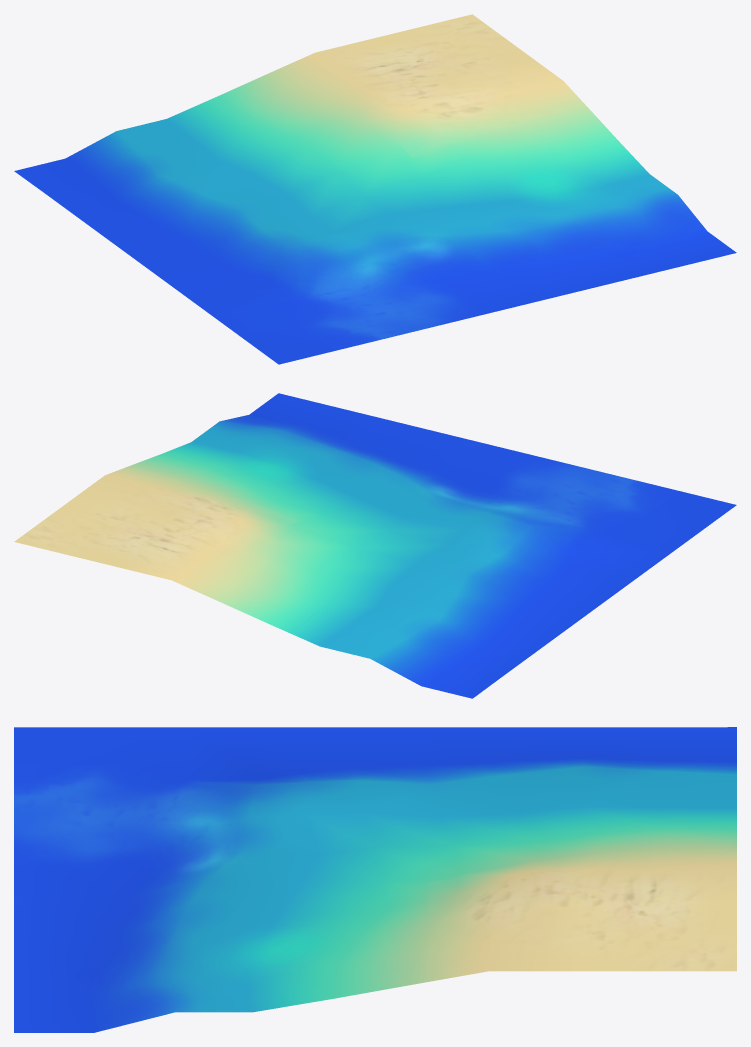
The model's file is land_beach00_c.fbx.
The picture shows the model from 3 angles, top to bottom: view 1: azimuth 30°, elevation 25°; view 2: azimuth 150°, elevation 25°; view 3: azimuth 270°, elevation 25°; orthographic projection. The views are drawn at different scales.
Parts seen in each view (by area): view 1: land_beach00_c; view 2: land_beach00_c; view 3: land_beach00_c.
Part boxes in pixels (x1,y1,x2,y2): land_beach00_c: (14, 14, 736, 364); land_beach00_c: (14, 393, 736, 698); land_beach00_c: (14, 727, 736, 1032).
Bounding box in the file's own units: 48.02 × 4.5 × 48.
